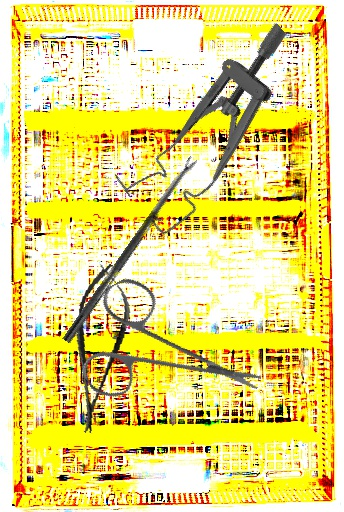Iris Scissors: (53, 244, 265, 456)
Micro Scissor: (58, 260, 138, 437)
Speculum: (100, 20, 338, 239)
Surgical Spoon: (62, 155, 199, 345)
